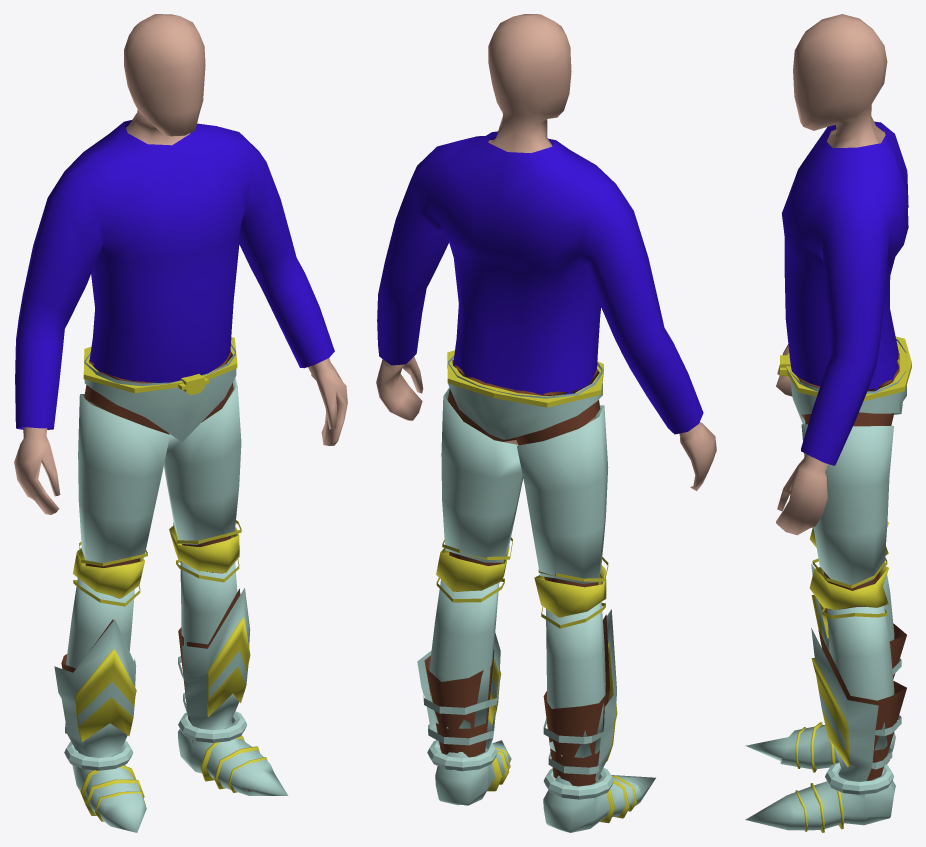
File: Bodytest.fbx
3 views of the same model, side by side, from view 1: azimuth 30°, elevation 25°; view 2: azimuth 150°, elevation 25°; view 3: azimuth 270°, elevation 25° (orthographic). The views are drawn at different scales.
Parts seen in each view (by area): view 1: shirts.001, Pants Armor.001, Boots, Body; view 2: shirts.001, Pants Armor.001, Boots, Body; view 3: shirts.001, Pants Armor.001, Boots, Body.
Boxes of the visible parts, box(x1,y1,x2,y2) form: shirts.001: box(15, 120, 334, 429); Pants Armor.001: box(66, 337, 241, 668); Boots: box(54, 588, 288, 832); Body: box(14, 14, 347, 598); shirts.001: box(377, 131, 703, 434); Pants Armor.001: box(429, 350, 608, 780); Boots: box(417, 609, 655, 832); Body: box(376, 14, 716, 617); shirts.001: box(782, 121, 908, 465); Pants Armor.001: box(780, 336, 911, 750); Boots: box(745, 564, 906, 832); Body: box(776, 14, 887, 535).
Bounding box in the file's own units: 306 × 703 × 137.
